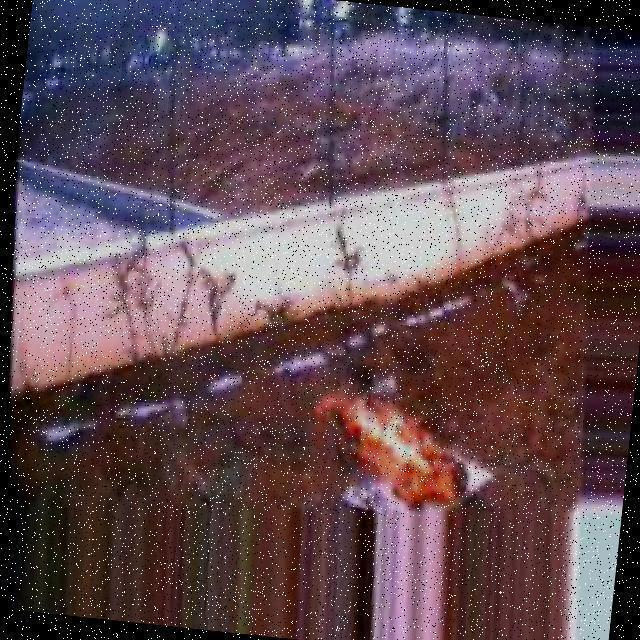Fire: (312, 361, 484, 513)
